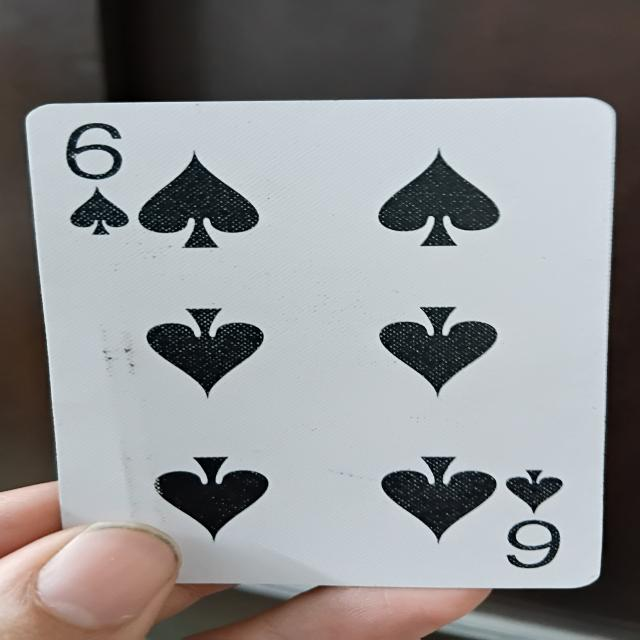6S: (22, 105, 596, 593)
